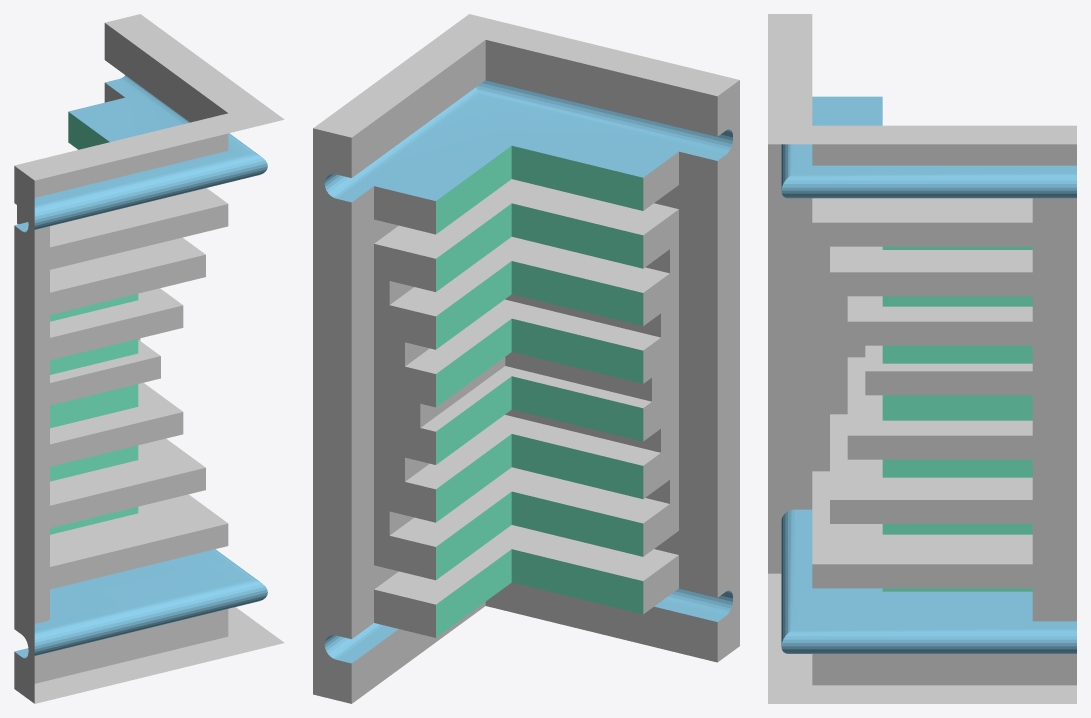
The model's file is Prop_Building_Eastern_Facade_Ornamental_Block_Corner_01.FBX.
The picture shows the model from 3 angles, left to right: view 1: azimuth 30°, elevation 25°; view 2: azimuth 150°, elevation 25°; view 3: azimuth 270°, elevation 25°; orthographic projection. The views are drawn at different scales.
Visible parts, largest first — view 1: Prop_Building_Eastern_Facade_Ornamental_Block_Corner_01; view 2: Prop_Building_Eastern_Facade_Ornamental_Block_Corner_01; view 3: Prop_Building_Eastern_Facade_Ornamental_Block_Corner_01.
Part boxes in pixels (bbox=[...]): Prop_Building_Eastern_Facade_Ornamental_Block_Corner_01: bbox=[14, 14, 284, 703]; Prop_Building_Eastern_Facade_Ornamental_Block_Corner_01: bbox=[313, 14, 739, 703]; Prop_Building_Eastern_Facade_Ornamental_Block_Corner_01: bbox=[768, 14, 1076, 703].
Size of the model in its own units: 913 by 1826 by 913.
